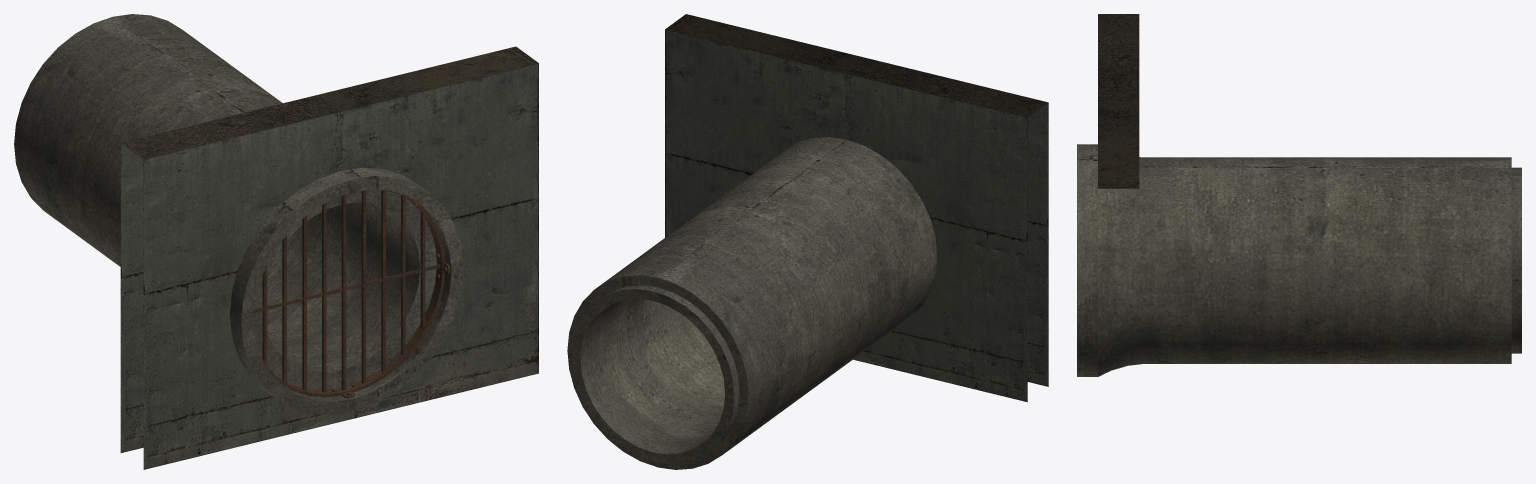
File: wall_rg_1_hole_1.obj
3 views of the same model, side by side, from view 1: azimuth 30°, elevation 25°; view 2: azimuth 150°, elevation 25°; view 3: azimuth 270°, elevation 25° (orthographic). The views are drawn at different scales.
Parts seen in each view (by area): view 1: wall_rg_1_hole_1; view 2: wall_rg_1_hole_1; view 3: wall_rg_1_hole_1.
Part boxes in pixels (x1,y1,x2,y2): wall_rg_1_hole_1: (14, 14, 538, 469); wall_rg_1_hole_1: (567, 14, 1048, 469); wall_rg_1_hole_1: (1077, 14, 1521, 376).
Bounding box in the file's own units: 4 × 3 × 4.3.
